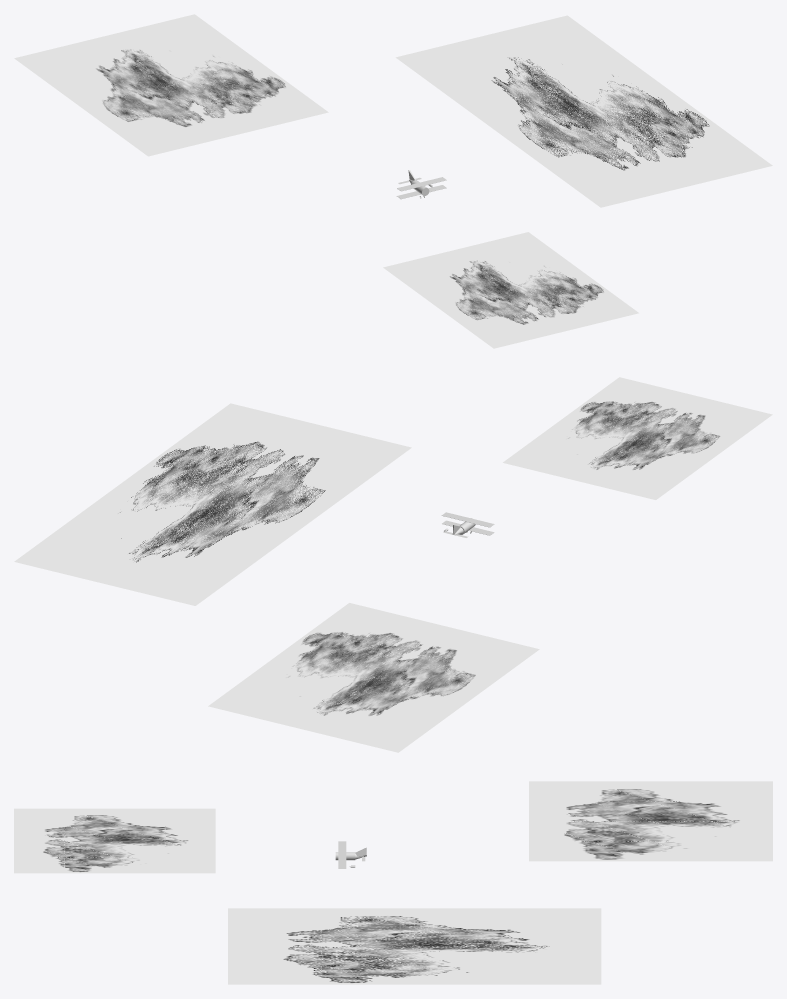
File: biplane.FBX
3 renders of one model, top to bottom at view 1: azimuth 30°, elevation 25°; view 2: azimuth 150°, elevation 25°; view 3: azimuth 270°, elevation 25°, orthographic. The views are drawn at different scales.
Parts seen in each view (by area): view 1: Plane002, Plane003, Plane001; view 2: Plane002, Plane003, Plane001; view 3: Plane002, Plane003, Plane001.
Part boxes in pixels (x1,y1,x2,y2): Plane002: [395, 15, 772, 207]; Plane003: [14, 14, 328, 156]; Plane001: [383, 232, 638, 348]; Plane002: [14, 403, 411, 605]; Plane003: [208, 603, 539, 752]; Plane001: [503, 377, 772, 499]; Plane002: [228, 908, 601, 984]; Plane003: [529, 781, 772, 861]; Plane001: [14, 808, 215, 873].
Size of the model in its own units: 1309 by 48.12 by 2062.
1 material, 1 textured.
